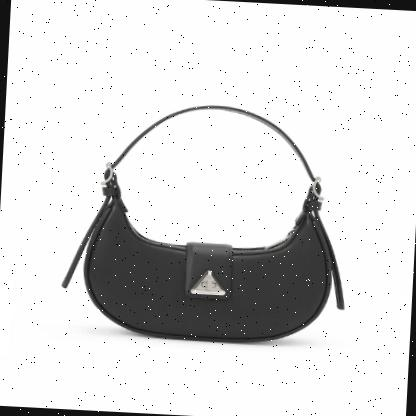bag: (55, 93, 356, 352)
